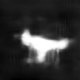plane: (13, 26, 75, 68)
